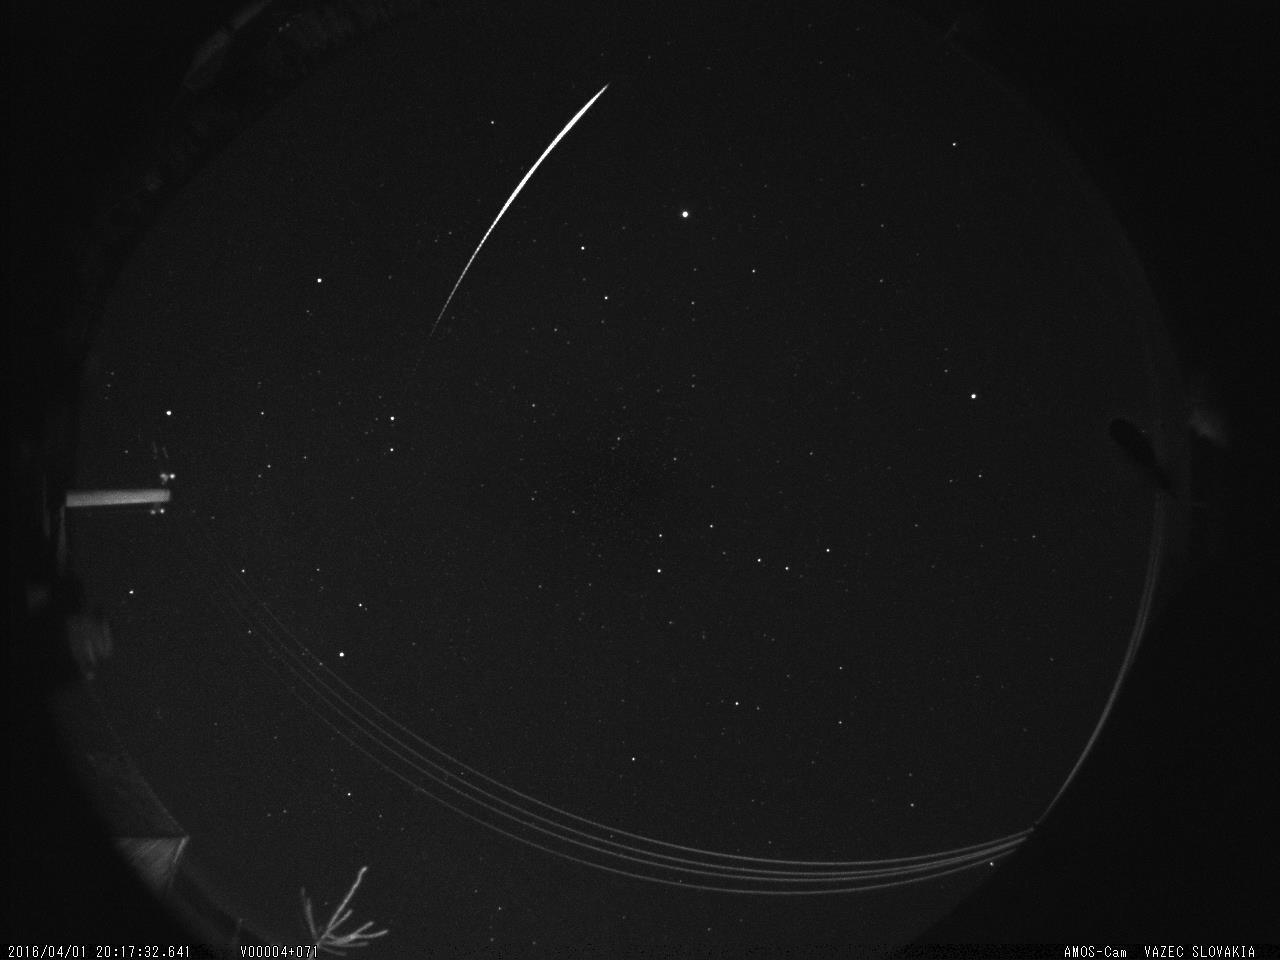Meteor: (416, 73, 620, 353)
